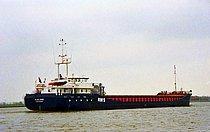Ship: (23, 31, 195, 114)
